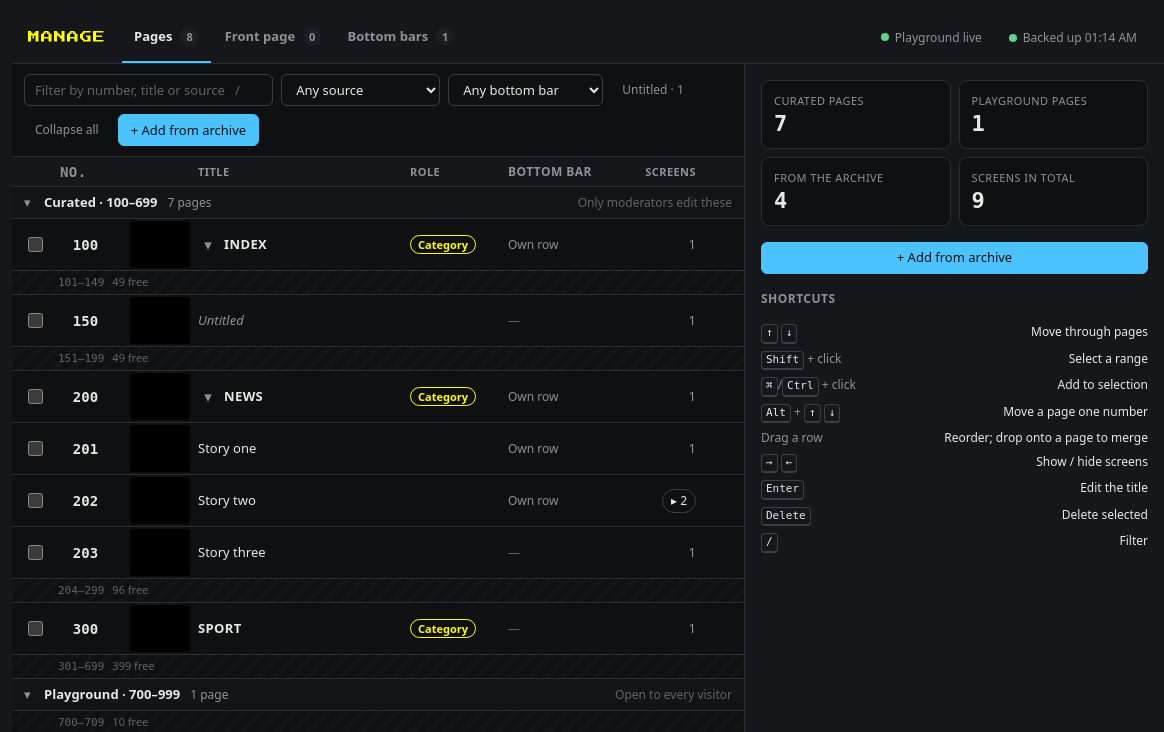
Scenario: the details pane › has no bar to choose on a hand-made page
The width and height of the screenshot is (1164, 732).
Click the row "203 Story three — 1": coordinates (378, 553) [12, 527, 744, 579]
(page scrolled)
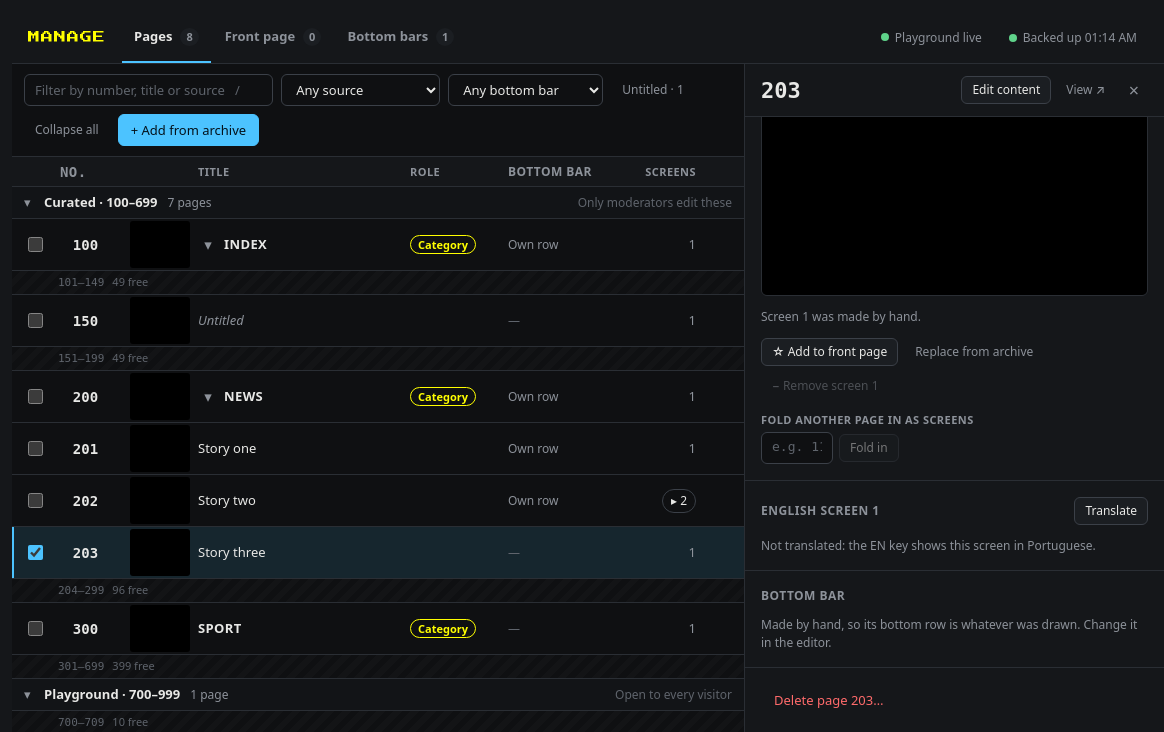
Expected: the text "Made by hand, so its bottom row is whatever was drawn" is shown, [761, 616, 1137, 651]
